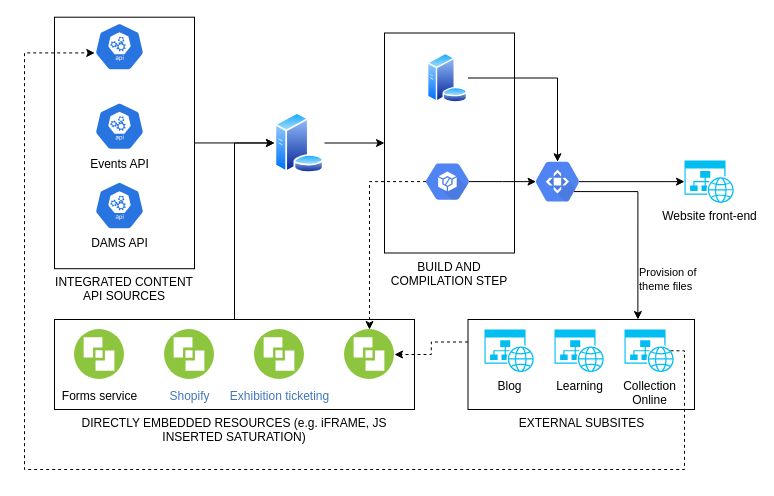
Image size: 774x496. Some labels were removed from this diagram. The centre of each missing label's shape, as x and y in pixels:
"BACK END BUILD" goes at [447,181].
"CDN / Hosting" goes at [557,181].
"Collections API" goes at [119,46].
"Documents, Media" goes at [447,77].
"Search" goes at [369,354].
"Website CMS API" goes at [299,142].
